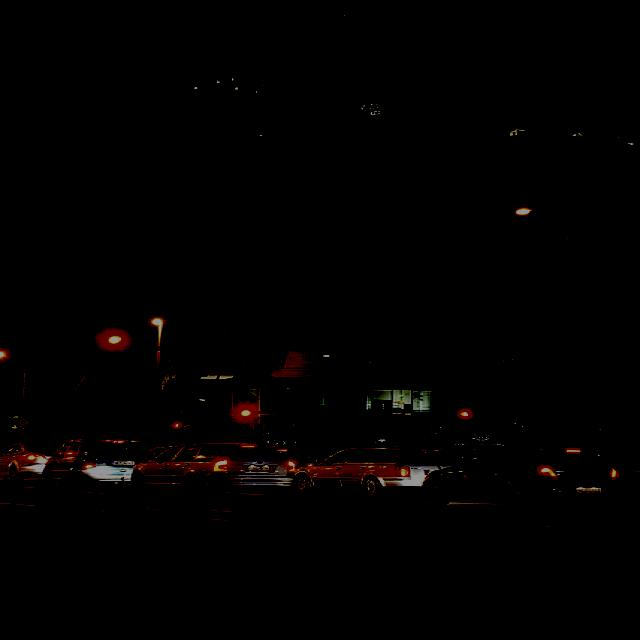Car: (421, 440, 620, 518), (125, 443, 305, 509)
